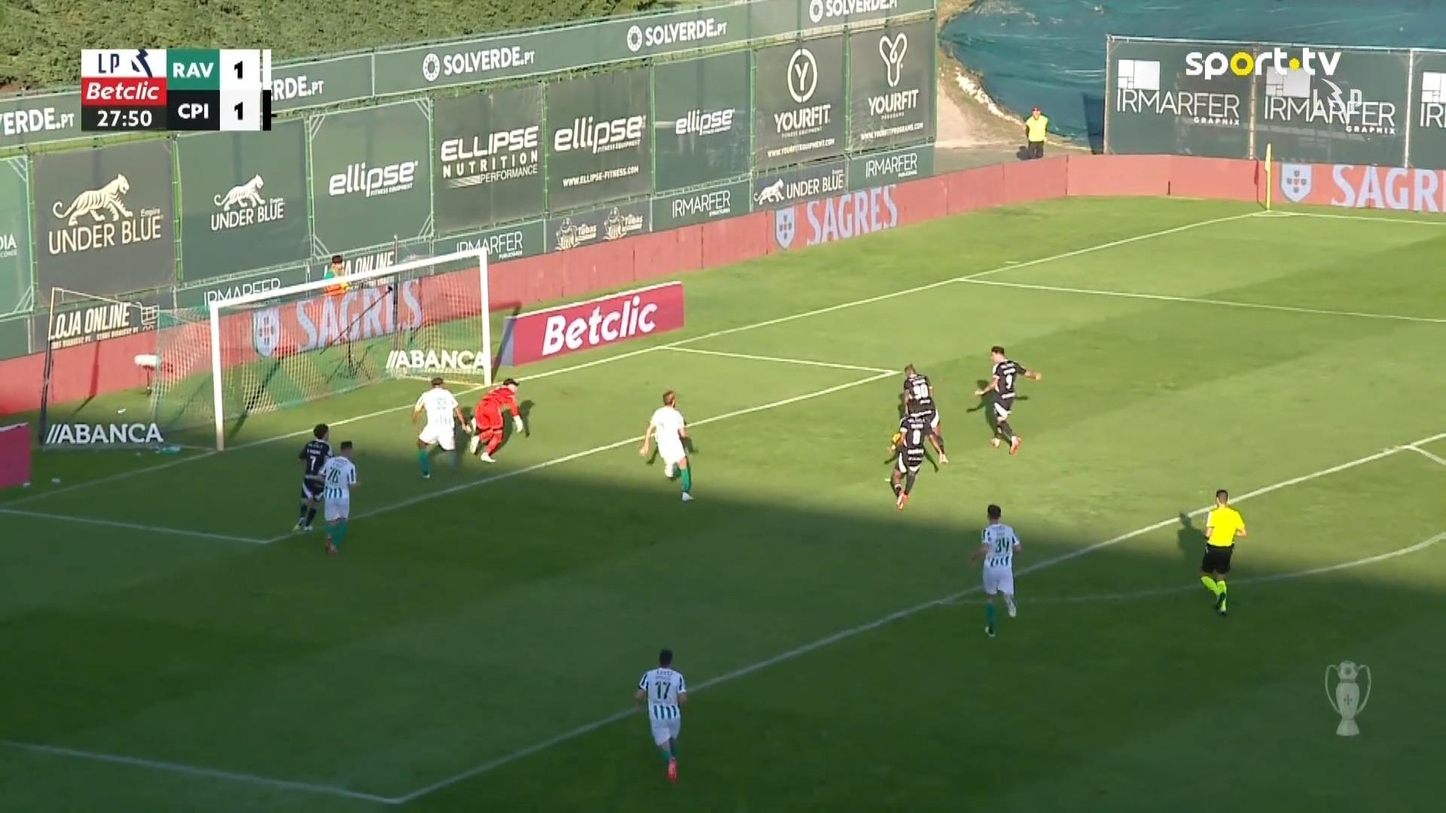goalkeeper: (466, 376, 526, 463)
player: (973, 344, 1042, 455), (633, 647, 688, 782), (969, 503, 1022, 637), (639, 389, 696, 501), (410, 375, 469, 479), (307, 440, 358, 554), (883, 413, 938, 510), (898, 362, 948, 464), (291, 422, 333, 531)
referee: (1198, 488, 1246, 616)
